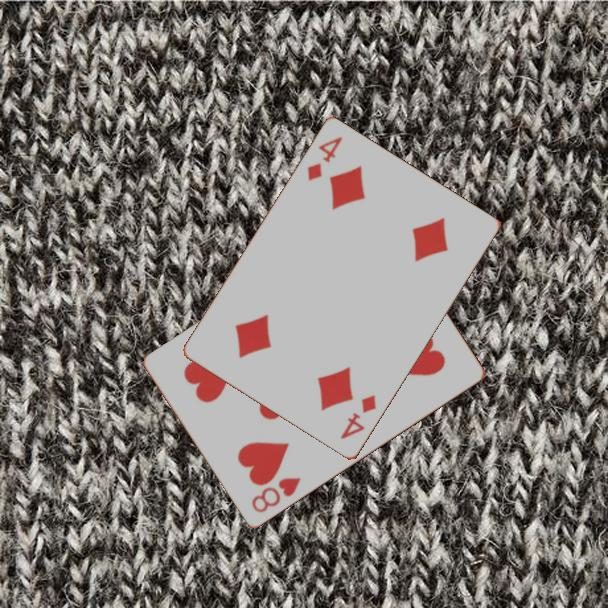d04: (337, 391, 379, 443), (304, 134, 345, 184)
h08: (248, 474, 304, 516)
